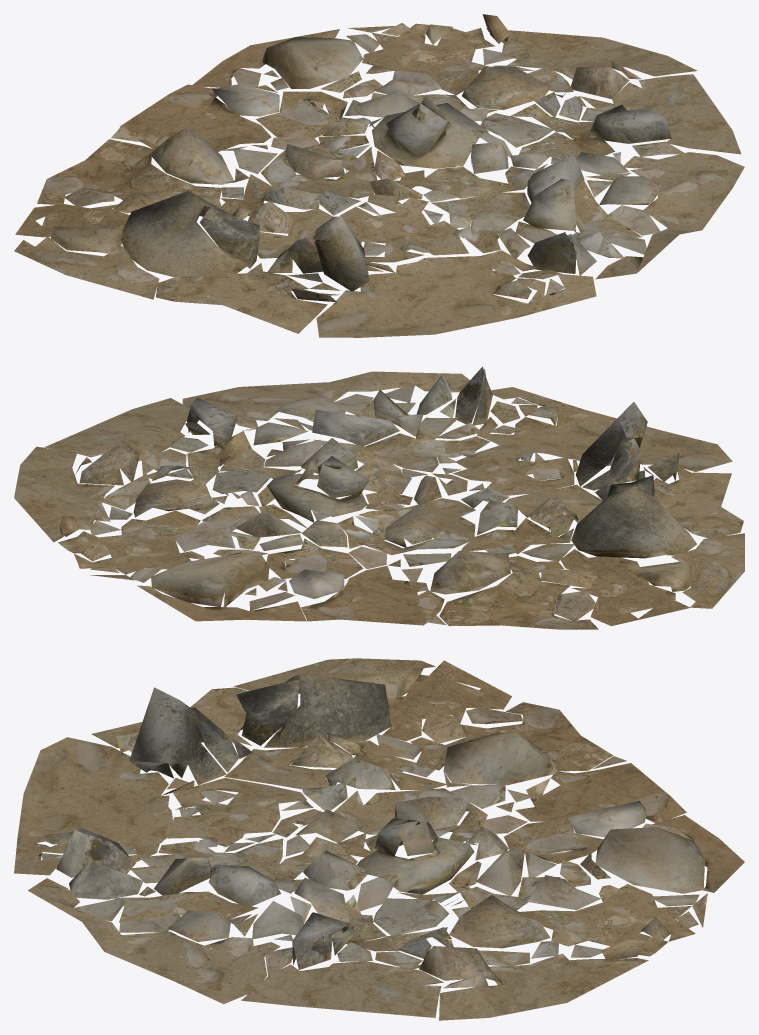
The model's file is source-rock.glb.
3 views of the same model, one above another, from view 1: azimuth 30°, elevation 25°; view 2: azimuth 150°, elevation 25°; view 3: azimuth 270°, elevation 25° (orthographic). The views are drawn at different scales.
Parts seen in each view (by area): view 1: source-rock; view 2: source-rock; view 3: source-rock.
Part boxes in pixels (x1,y1,x2,y2): source-rock: (14,14,744,337); source-rock: (14,366,744,629); source-rock: (14,658,744,1020).
Bounding box in the file's own units: 4.61 × 0.5277 × 3.9.
1 material, 1 textured.
